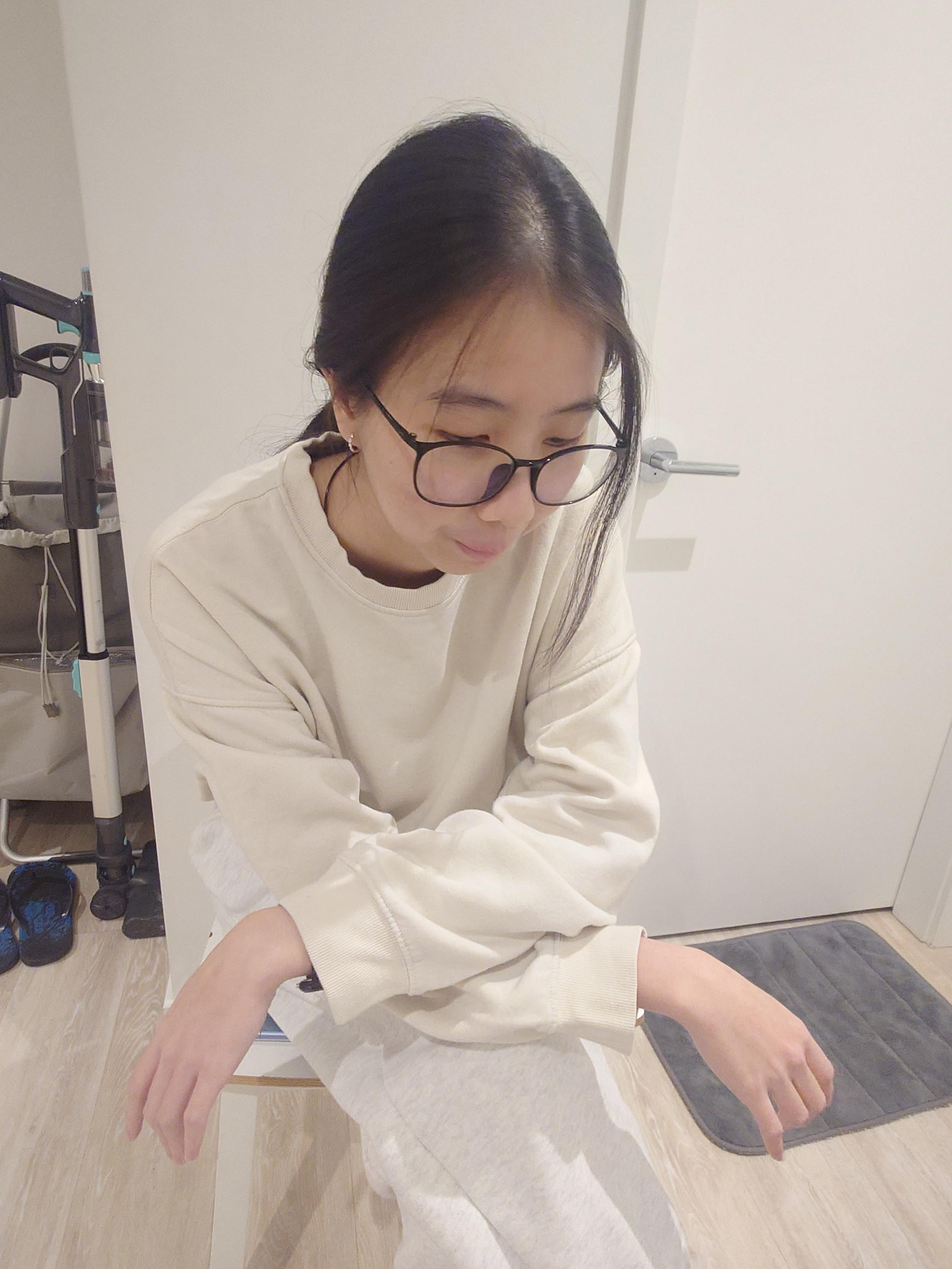BadPosture: (124, 112, 834, 1269)
